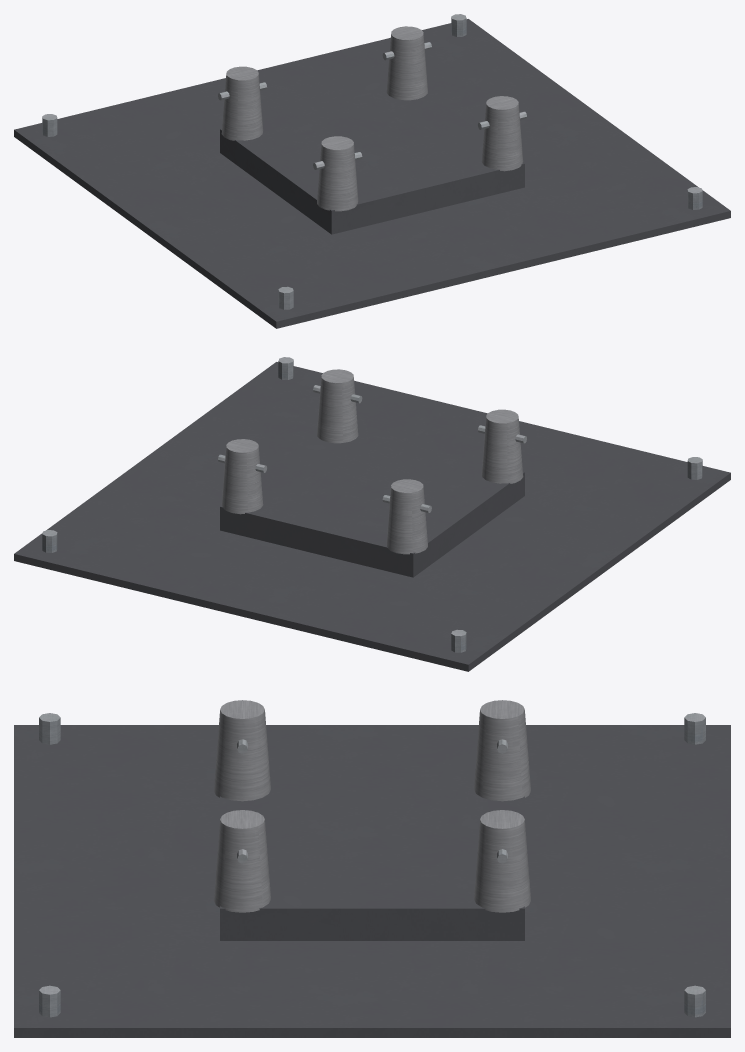
Rendered from truss_base_plate.gltf.
3 renders of one model, top to bottom at view 1: azimuth 30°, elevation 25°; view 2: azimuth 150°, elevation 25°; view 3: azimuth 270°, elevation 25°, orthographic. The views are drawn at different scales.
Visible parts, largest first — view 1: truss_base_plate; view 2: truss_base_plate; view 3: truss_base_plate.
Part boxes in pixels (bbox=[...]): truss_base_plate: bbox=[14, 14, 730, 328]; truss_base_plate: bbox=[14, 357, 730, 671]; truss_base_plate: bbox=[14, 700, 730, 1037].
Size of the model in its own units: 0.8 by 0.15 by 0.8.
Materials: 3 (3 with a texture image).
